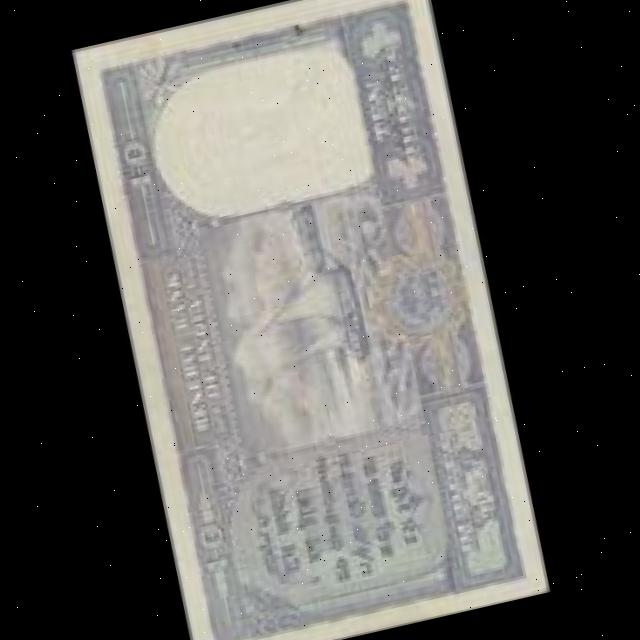banknote: (55, 0, 567, 640)
